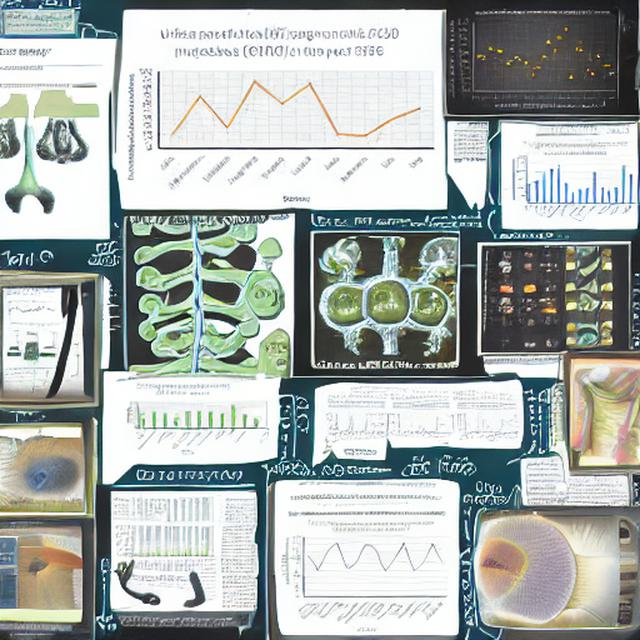Graph: (122, 23, 438, 205), (282, 517, 451, 634), (449, 9, 619, 112), (120, 382, 252, 457), (512, 151, 636, 222), (454, 407, 520, 446), (159, 492, 210, 525), (4, 299, 58, 330)
